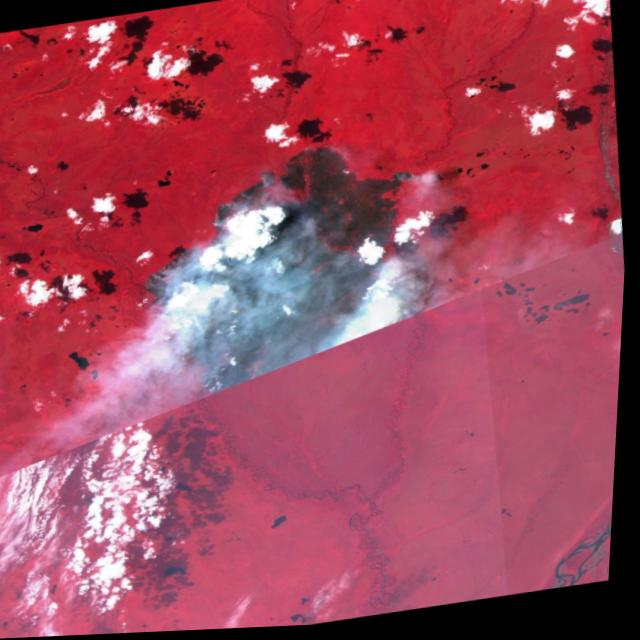fire: (117, 132, 453, 403)
